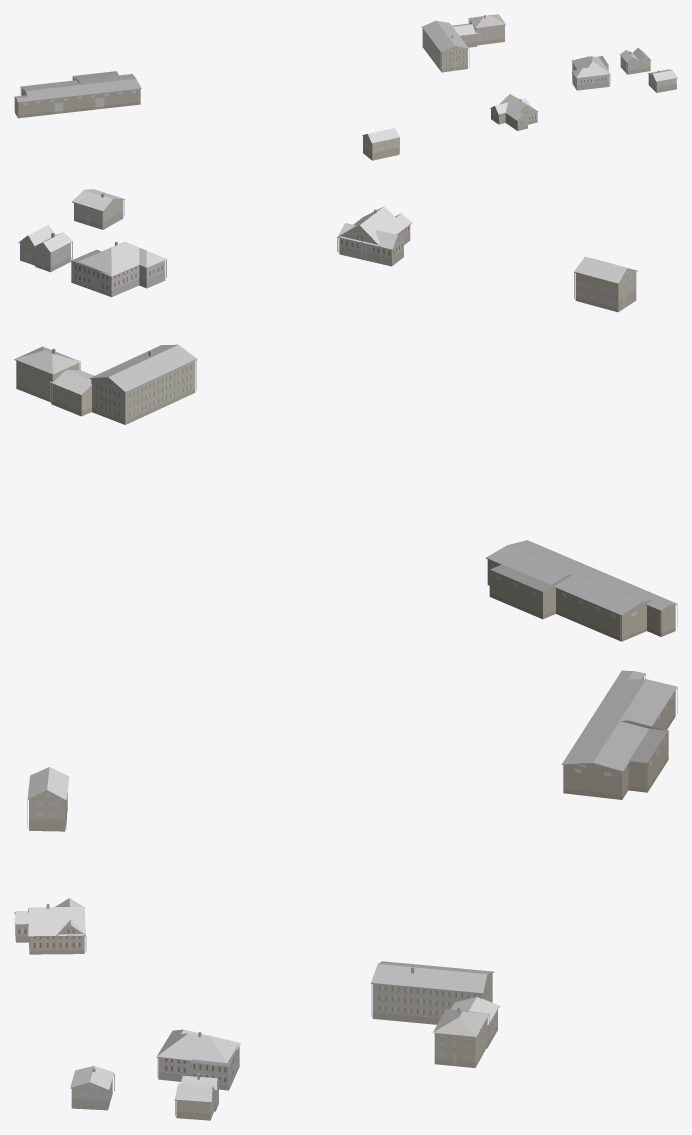
3 renders of one model, top to bottom at view 1: azimuth 30°, elevation 25°; view 2: azimuth 150°, elevation 25°; view 3: azimuth 270°, elevation 25°, orthographic. The views are drawn at different scales.
Visible parts, largest first — view 1: bld; view 2: bld; view 3: bld.
Part boxes in pixels (box(x1,y1,x2,y2)): bld: box(14, 14, 677, 160); bld: box(14, 189, 677, 641); bld: box(14, 670, 677, 1120).
Bounding box in the file's own units: 260 × 26.9 × 163.
